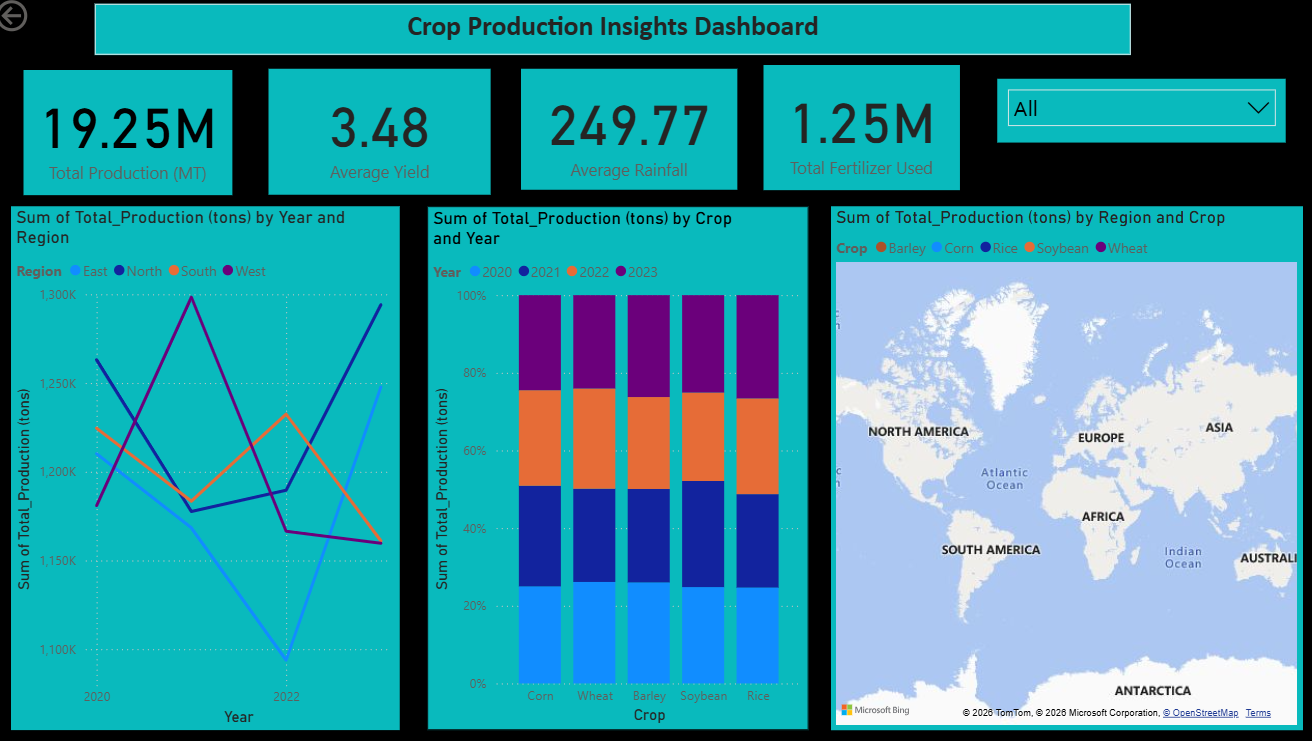

Layout of this report page (visuals, bound fields, positions):
{"tool":"powerbi","page":{"name":"Page 1","canvas":[1280,720],"ordinal":0},"visuals":[{"type":"card","fields":{"Values":["Sum(Agriculture_Production_Insights.Total_Production (tons))"]},"box":[31.4,72.4,201.5,120.6],"z":0},{"type":"lineChart","fields":{"Category":["Agriculture_Production_Insights.Year"],"Y":["Sum(Agriculture_Production_Insights.Total_Production (tons))"],"Series":["Agriculture_Production_Insights.Region"]},"box":[19.3,203.9,375.2,505.5],"z":1000},{"type":"card","fields":{"Values":["Avg(Agriculture_Production_Insights.Yield_per_ha (tons))"]},"box":[267.8,71.2,214.7,121.9],"z":2000},{"type":"card","fields":{"Values":["Avg(Agriculture_Production_Insights.Avg_Rainfall_mm)"]},"box":[511.5,71.2,208.7,117],"z":3000},{"type":"card","fields":{"Values":["Sum(Agriculture_Production_Insights.Fertilizer_Used_kg)"]},"box":[745.6,67.6,189.4,120.6],"z":4000},{"type":"hundredPercentStackedColumnChart","fields":{"Category":["Agriculture_Production_Insights.Crop"],"Y":["Sum(Agriculture_Production_Insights.Total_Production (tons))"],"Series":["Agriculture_Production_Insights.Year"]},"box":[421,203.9,368,505.5],"z":5000},{"type":"actionButton","box":[0,0,100,40],"z":6000},{"type":"filledMap","fields":{"Category":["Agriculture_Production_Insights.Region"],"Series":["Agriculture_Production_Insights.Crop"]},"box":[810.7,203.9,454.8,505.5],"z":7000},{"type":"slicer","fields":{"Values":["Agriculture_Production_Insights.Region"]},"box":[971.2,80.8,278.7,61.5],"z":8000},{"type":"textbox","box":[100.1,8.4,1000.1,49.5],"z":9000}]}

Visuals, with their boxes in screenshot pixels (x1, y1, x2, y2), scaled from the page's 1280x720 canvas onto the 1312x741 screenshot:
card - Sum(Agriculture_Production_Insights.Total_Production (tons)): [32,75,239,199]
lineChart - Agriculture_Production_Insights.Year x Sum(Agriculture_Production_Insights.Total_Production (tons)): [20,210,404,730]
card - Avg(Agriculture_Production_Insights.Yield_per_ha (tons)): [274,73,495,199]
card - Avg(Agriculture_Production_Insights.Avg_Rainfall_mm): [524,73,738,194]
card - Sum(Agriculture_Production_Insights.Fertilizer_Used_kg): [764,70,958,194]
hundredPercentStackedColumnChart - Agriculture_Production_Insights.Crop x Sum(Agriculture_Production_Insights.Total_Production (tons)): [432,210,809,730]
actionButton: [0,0,102,41]
filledMap - Agriculture_Production_Insights.Region x Agriculture_Production_Insights.Crop: [831,210,1297,730]
slicer - Agriculture_Production_Insights.Region: [995,83,1281,146]
textbox: [103,9,1128,60]
